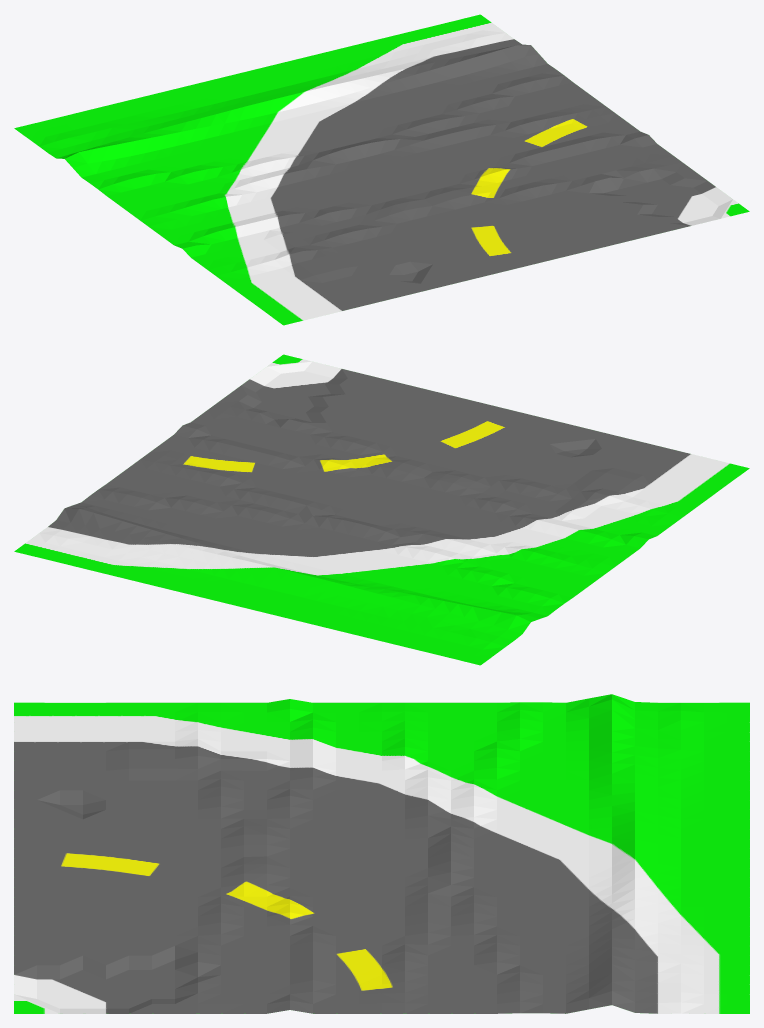
The model's file is terrain3.dae.
The picture shows the model from 3 angles, top to bottom: view 1: azimuth 30°, elevation 25°; view 2: azimuth 150°, elevation 25°; view 3: azimuth 270°, elevation 25°; orthographic projection. The views are drawn at different scales.
Parts seen in each view (by area): view 1: Plane; view 2: Plane; view 3: Plane.
Boxes of the visible parts, bbox=[...] form: Plane: bbox=[14, 14, 749, 325]; Plane: bbox=[14, 354, 749, 665]; Plane: bbox=[14, 694, 749, 1013].
Size of the model in its own units: 4.88 by 4.88 by 0.1324.
Materials: 1 (1 with a texture image).
